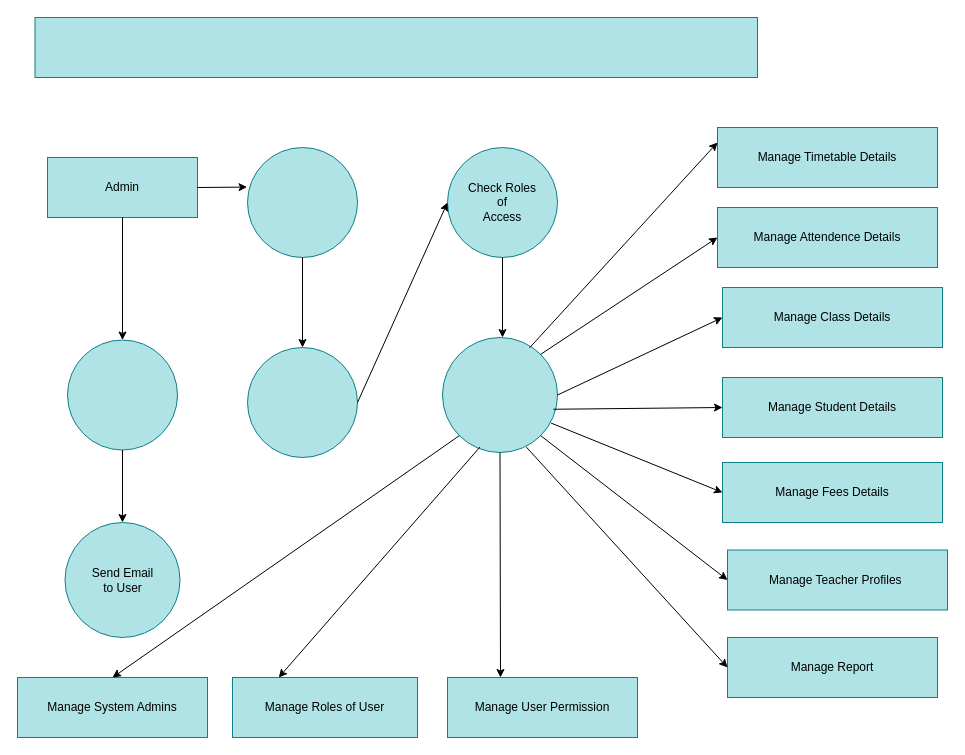
Some shapes in this 965 by 755 pixel diagram are drawn without their labels. Here are the shapes that lost their labels. From the top down, the centre of each, then its label:
At [396,47]: "Student Informatoin System".
At [302,202]: "Login to System".
At [122,394]: "Forgot Password".
At [302,402]: "Check Credentials".
At [500,394]: "Manage Modules".
